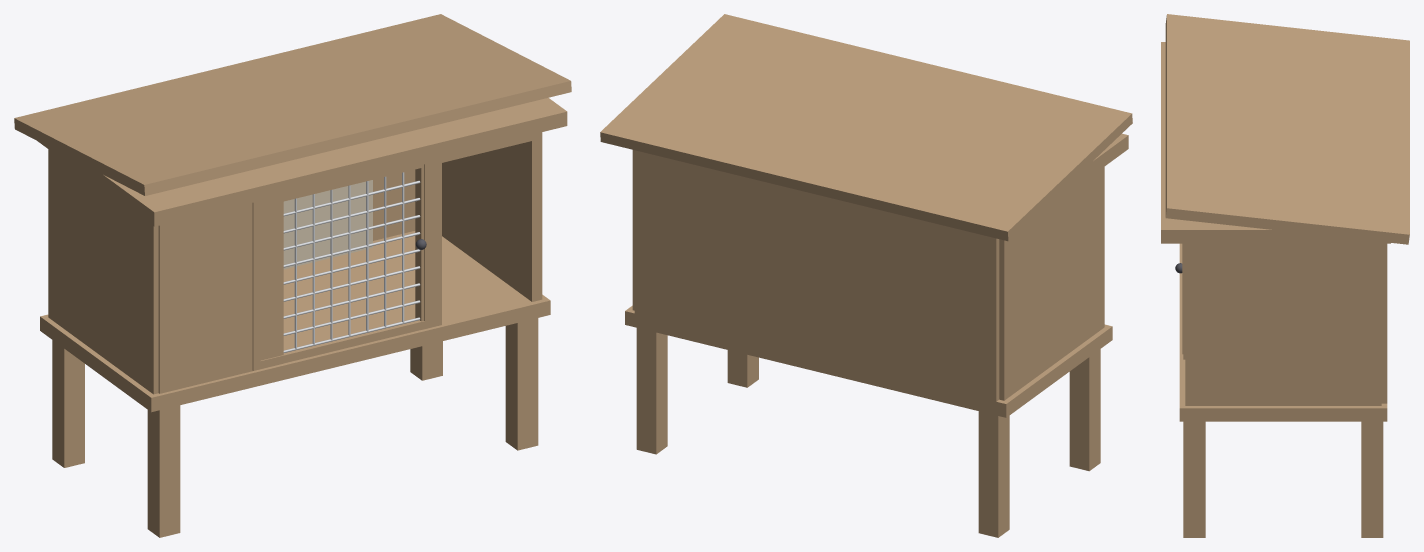
Rendered from pets-and-companions-hd-rabbit-hutch-3019e5d1__28171.glb.
3 renders of one model, left to right at view 1: azimuth 30°, elevation 25°; view 2: azimuth 150°, elevation 25°; view 3: azimuth 270°, elevation 25°, orthographic. The views are drawn at different scales.
Parts seen in each view (by area): view 1: rabbit-hutch, hutch-door/metal, hutch-door/wood; view 2: rabbit-hutch; view 3: rabbit-hutch.
Part boxes in pixels (x1,y1,x2,y2): rabbit-hutch: (14,14,571,537); hutch-door/metal: (283,172,420,352); hutch-door/wood: (252,159,432,370); rabbit-hutch: (600,14,1132,537); rabbit-hutch: (1161,14,1409,537).
Size of the model in its own units: 1.24 by 1.01 by 0.6713.
